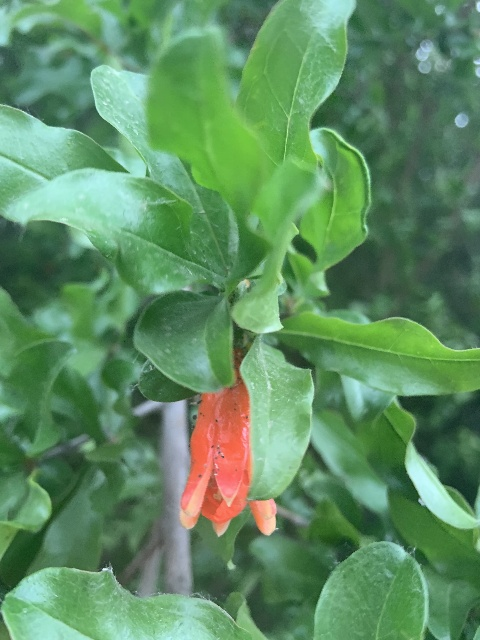flower: (178, 349, 277, 538)
